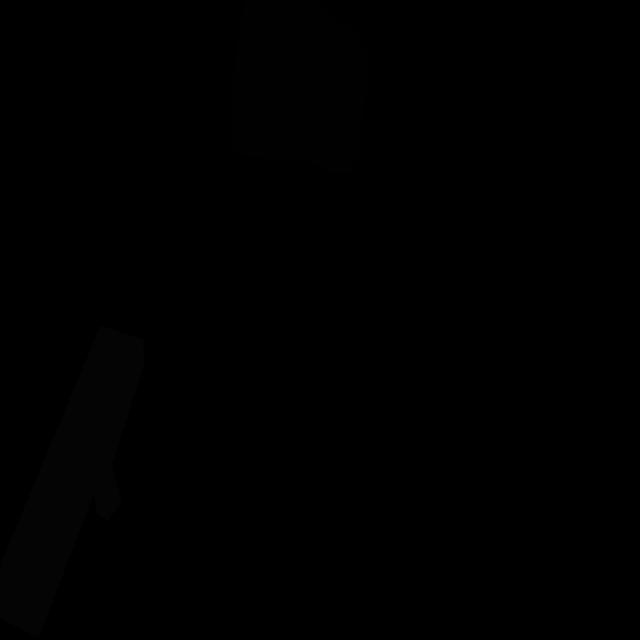rigid_plastic: (232, 0, 369, 173)
soft_plastic: (0, 326, 144, 638)
